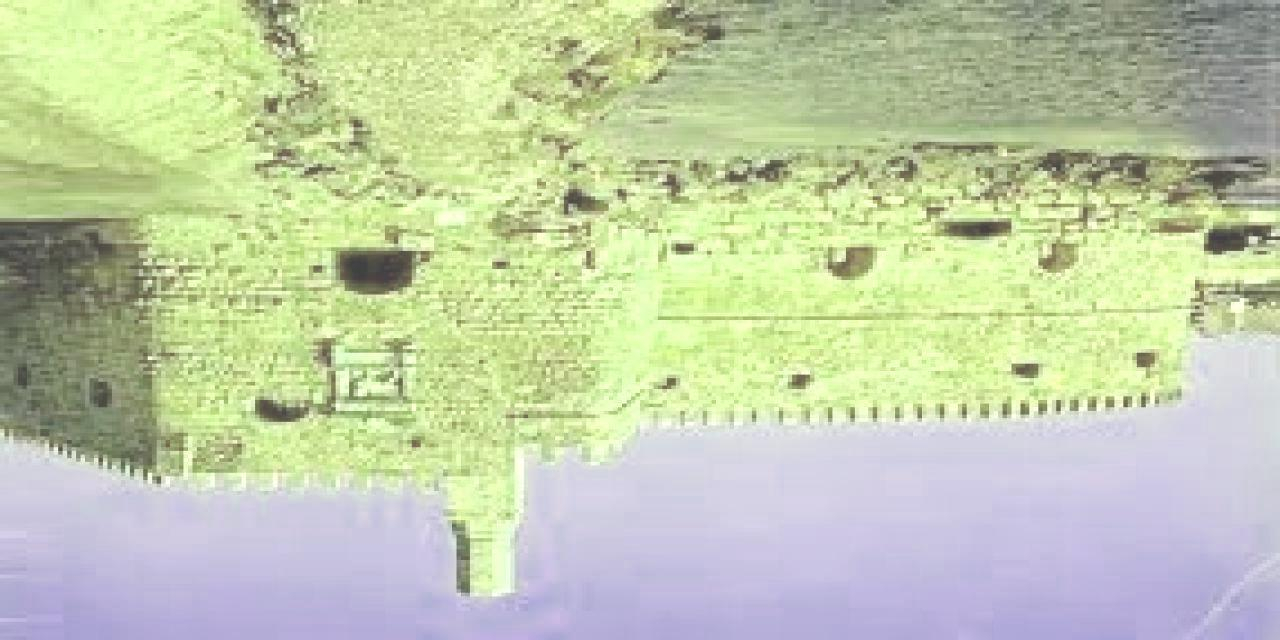Kules: (1, 214, 1208, 602)
